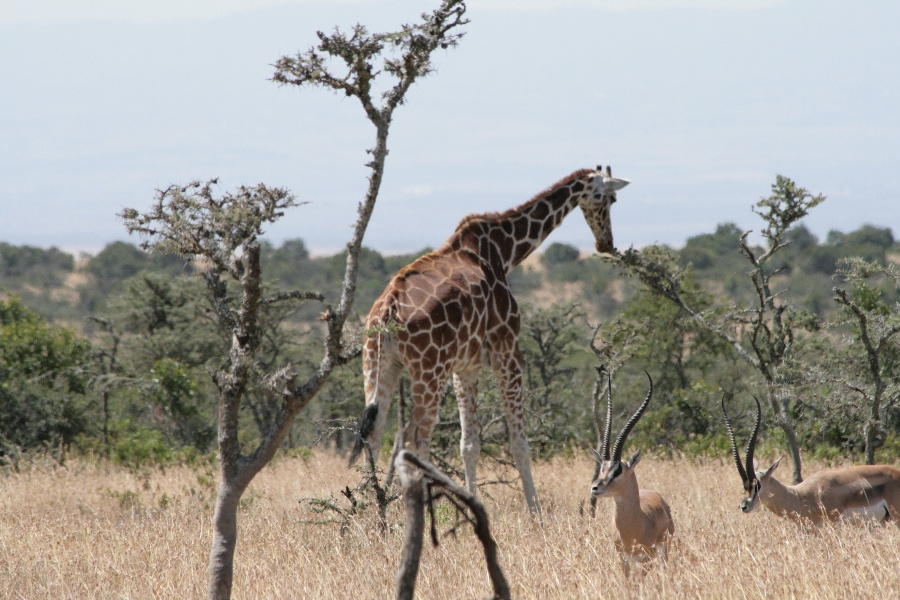giraffe: (351, 155, 632, 521)
